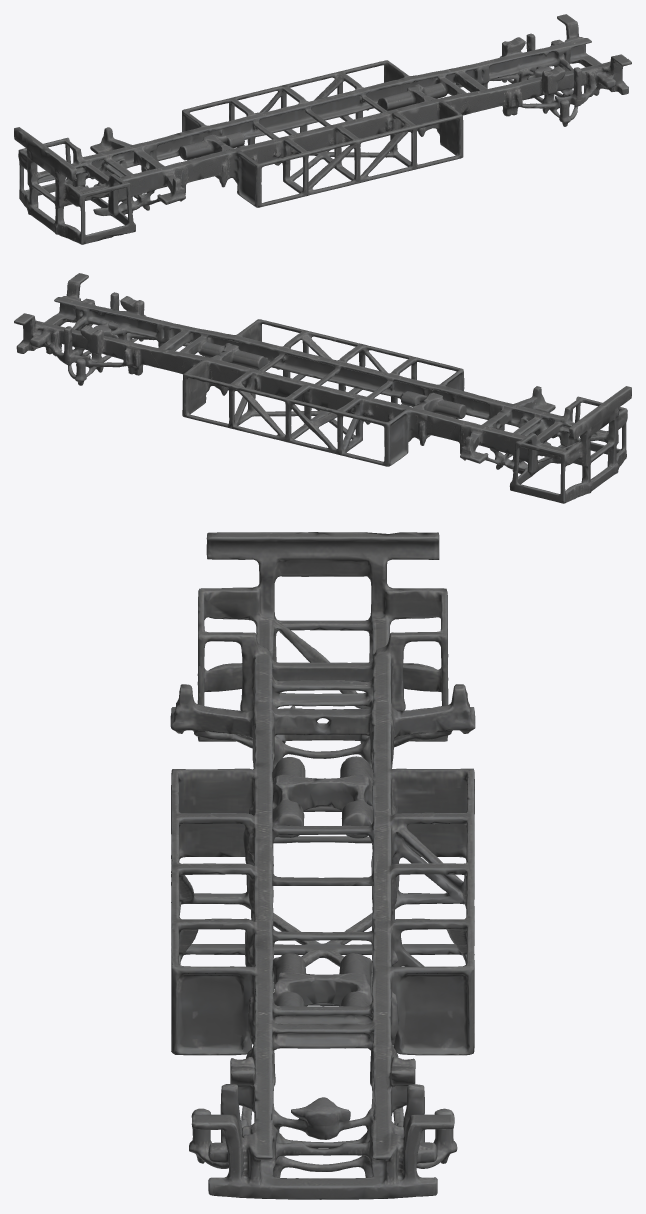
The model's file is chasis.glb.
3 views of the same model, one above another, from view 1: azimuth 30°, elevation 25°; view 2: azimuth 150°, elevation 25°; view 3: azimuth 270°, elevation 25° (orthographic). The views are drawn at different scales.
Bounding box in the file's own units: 1.9 × 0.2437 × 0.445.
Materials: 1 (1 with a texture image).
